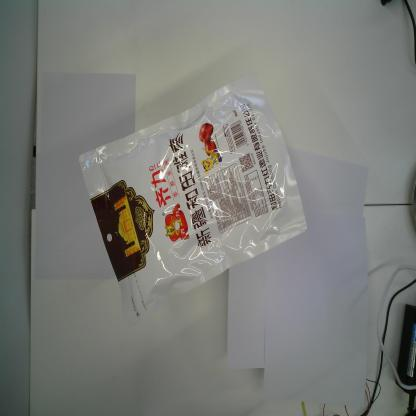Dried Food: (78, 69, 307, 328)
